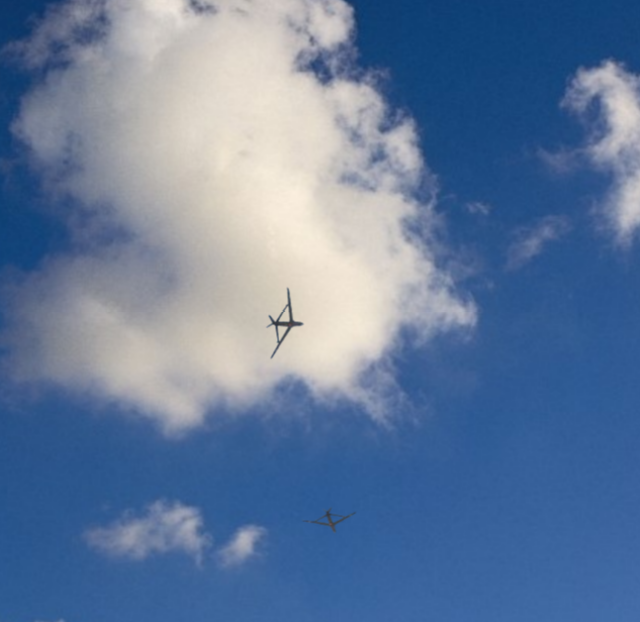military drone: (265, 287, 303, 358), (302, 507, 356, 532)
